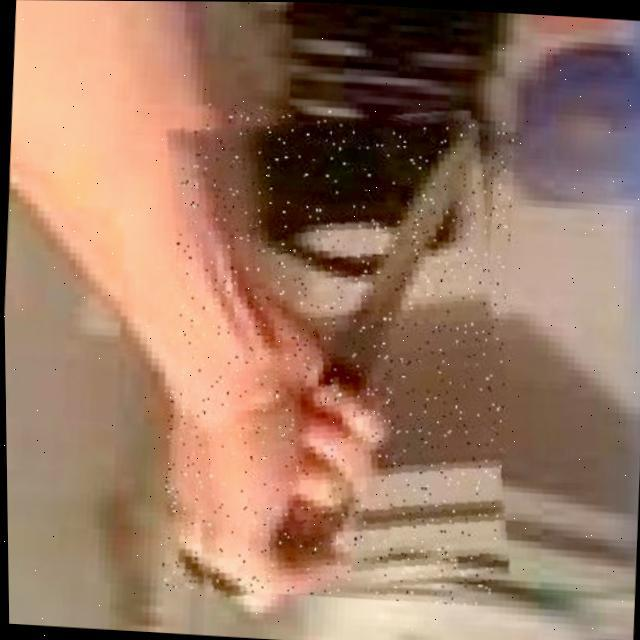knife: (155, 101, 520, 606)
